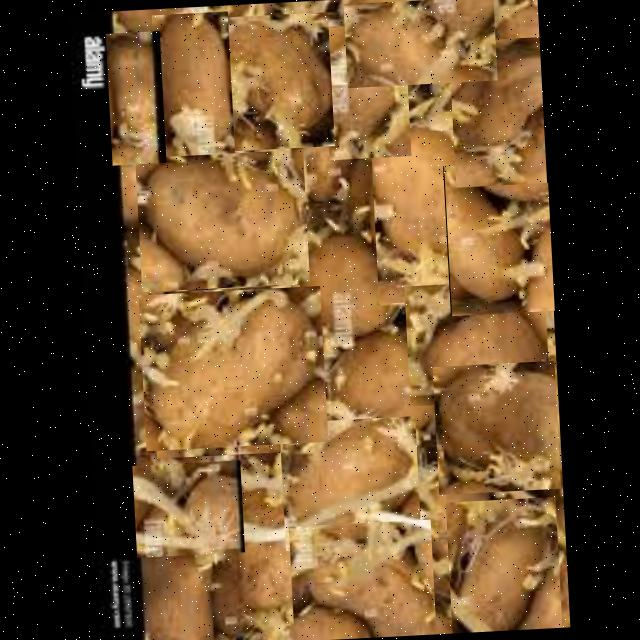Sprouted potato: (138, 285, 328, 450), (148, 284, 308, 458), (135, 148, 310, 292), (279, 415, 422, 550), (370, 128, 477, 303), (404, 278, 550, 406), (288, 518, 436, 640), (432, 360, 562, 494), (443, 160, 555, 315), (300, 230, 441, 345), (446, 496, 562, 634), (226, 11, 335, 150), (448, 36, 548, 187), (343, 0, 497, 87), (218, 501, 312, 640), (152, 11, 236, 162), (322, 23, 412, 159), (132, 459, 245, 557), (106, 30, 166, 165)
